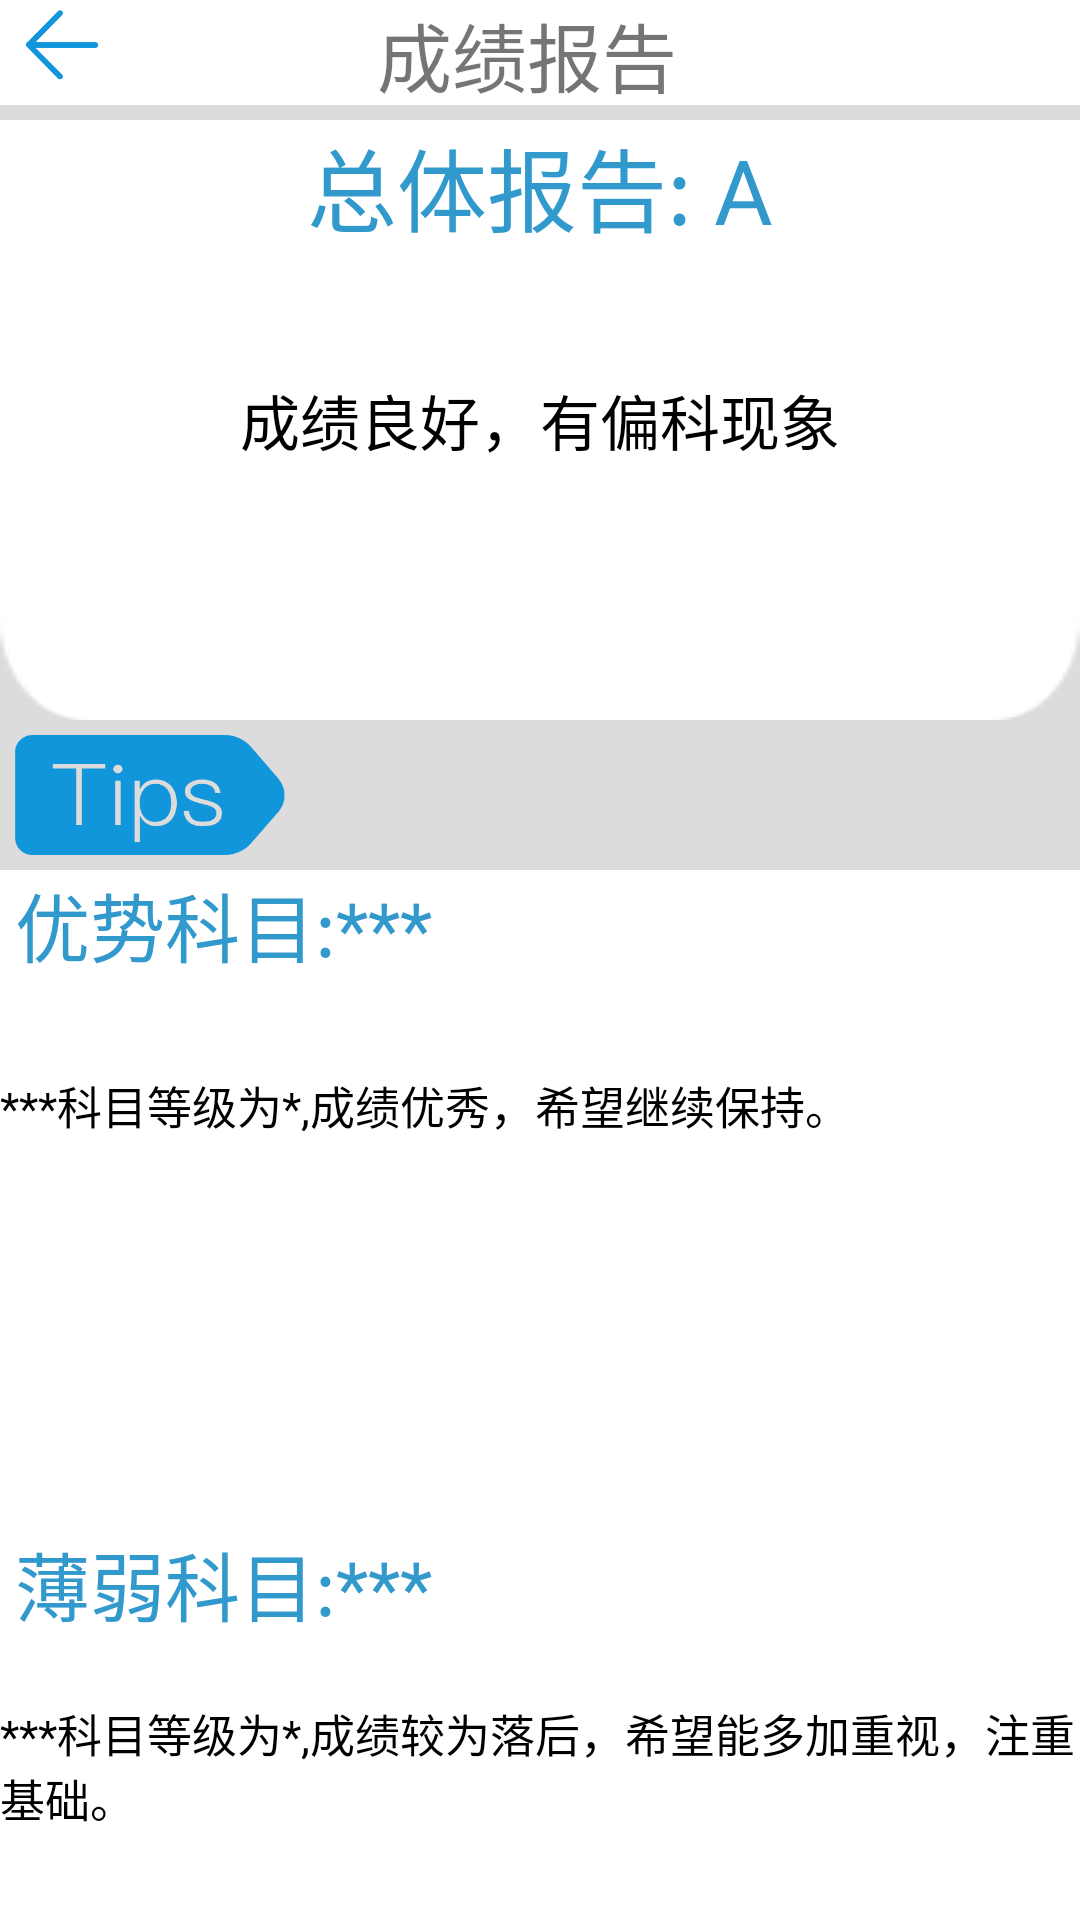

Locate icon controls on the screen. Image size 1080x1920, boxes as Rect(x1, y1, x2, y2).
direction left: Rect(26, 10, 98, 80)
